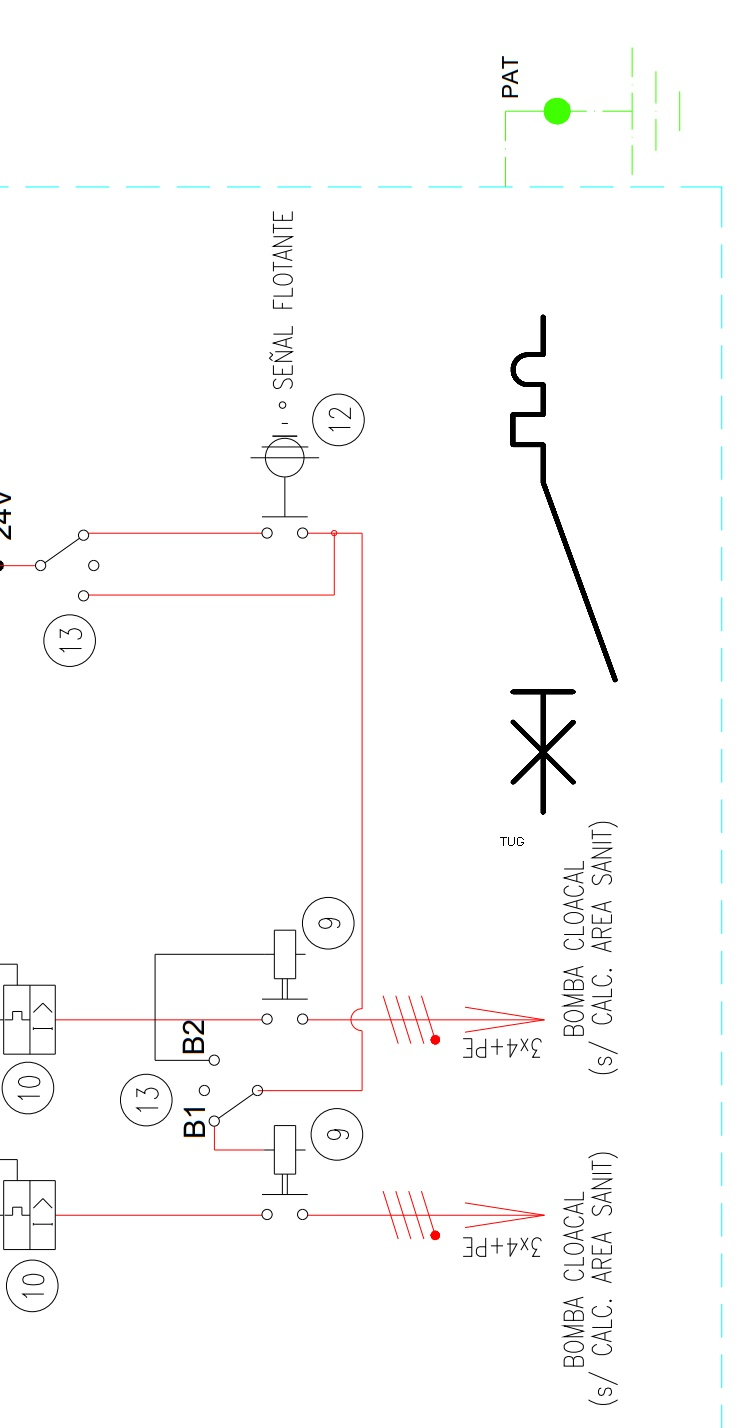interruptor_termomagnetico: (500, 304, 627, 825)
